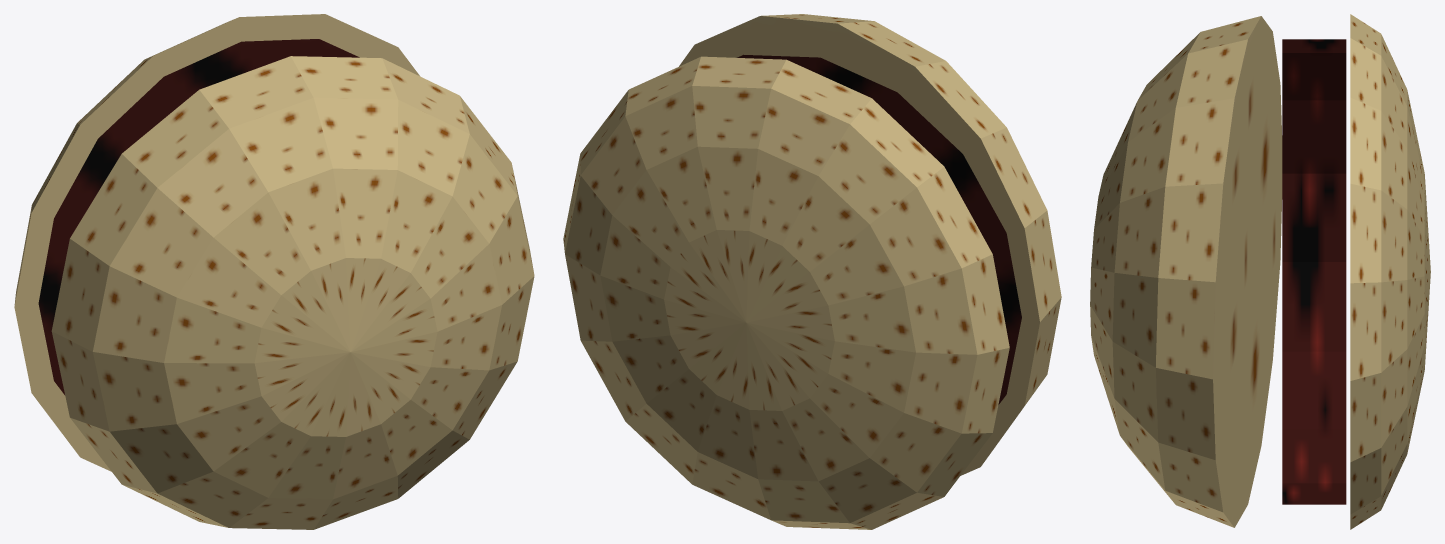
File: burger.glb
The picture shows the model from 3 angles, left to right: view 1: azimuth 30°, elevation 25°; view 2: azimuth 150°, elevation 25°; view 3: azimuth 270°, elevation 25°; orthographic projection.
Parts seen in each view (by area): view 1: Sphere, Sphere.001, Cylinder; view 2: Sphere.001, Sphere, Cylinder; view 3: Sphere, Sphere.001, Cylinder.
Part boxes in pixels (box(x1,y1,x2,y2)): Sphere: box(51, 56, 534, 529); Sphere.001: box(14, 14, 419, 471); Cylinder: box(38, 39, 359, 394); Sphere.001: box(563, 56, 1009, 529); Sphere: box(679, 14, 1061, 475); Cylinder: box(737, 54, 1021, 404); Sphere: box(1090, 16, 1282, 527); Sphere.001: box(1350, 14, 1430, 529); Cylinder: box(1282, 39, 1346, 504).
Size of the model in its own units: 0.5778 by 0.5778 by 0.3813.
1 material, 1 textured.
